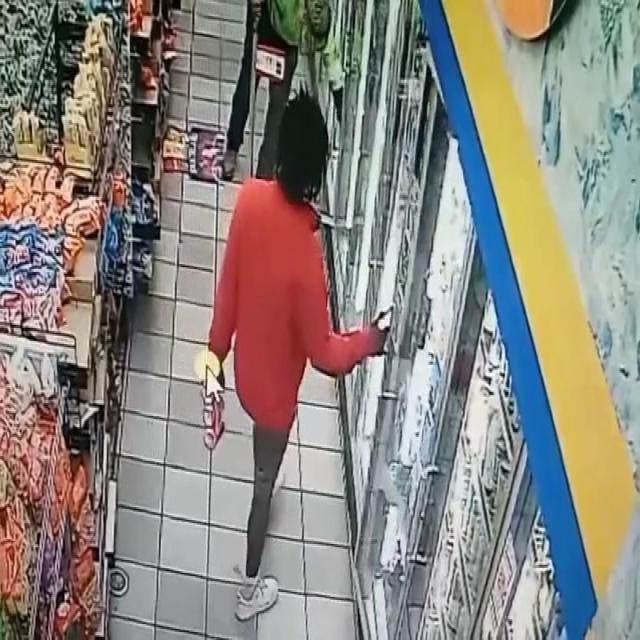Normal: (194, 88, 398, 633), (223, 0, 347, 187)
